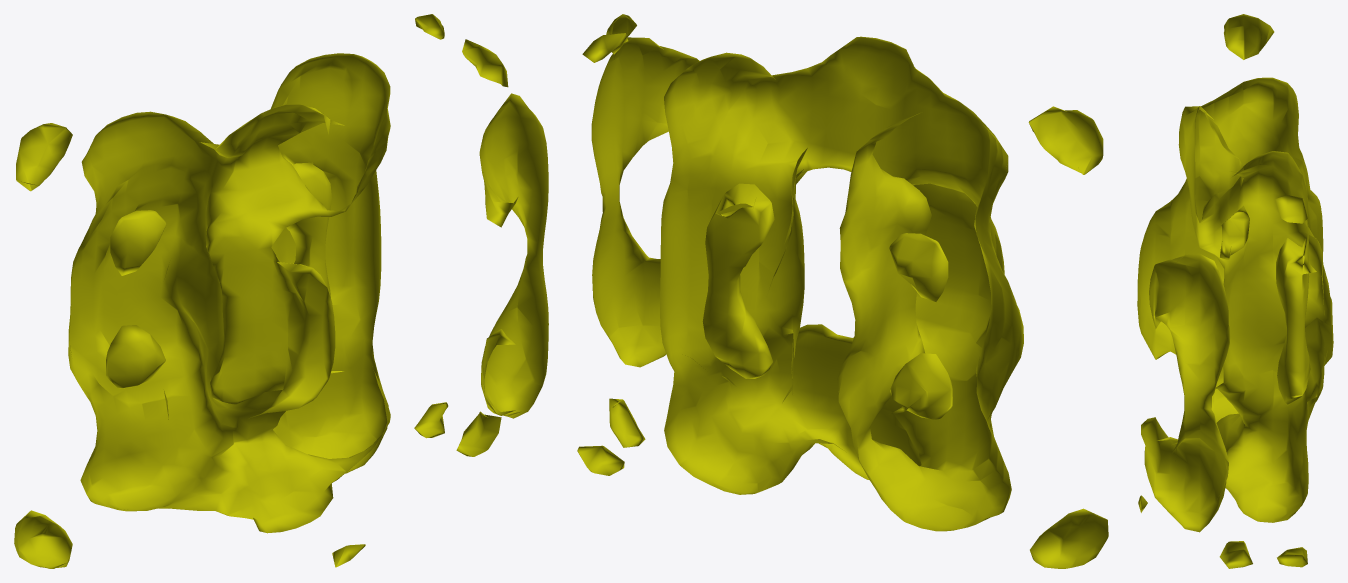
The picture shows the model from 3 angles, left to right: view 1: azimuth 30°, elevation 25°; view 2: azimuth 150°, elevation 25°; view 3: azimuth 270°, elevation 25°; orthographic projection. The views are drawn at different scales.
Visible parts, largest first — view 1: world; view 2: world; view 3: world.
Boxes of the visible parts, box(x1,y1,x2,y2) form: world: box(14, 14, 548, 568); world: box(577, 14, 1108, 568); world: box(1137, 14, 1333, 568).
Size of the model in its own units: 34.89 by 29.82 by 13.38.
